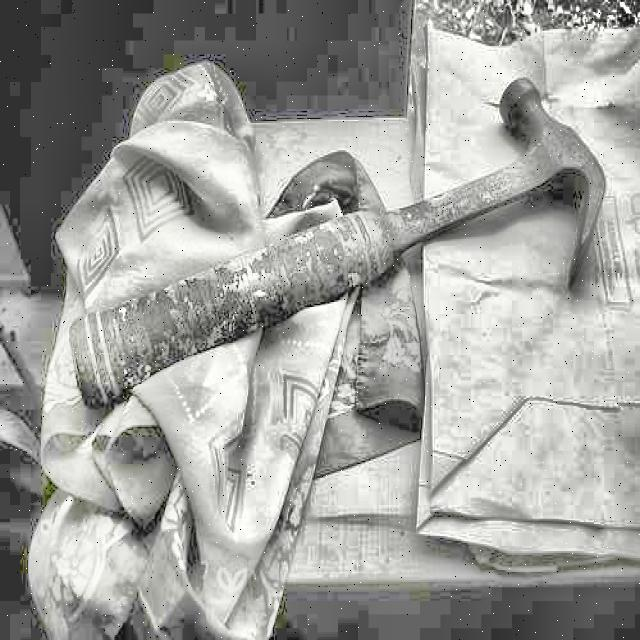hammer: (67, 73, 611, 412)
